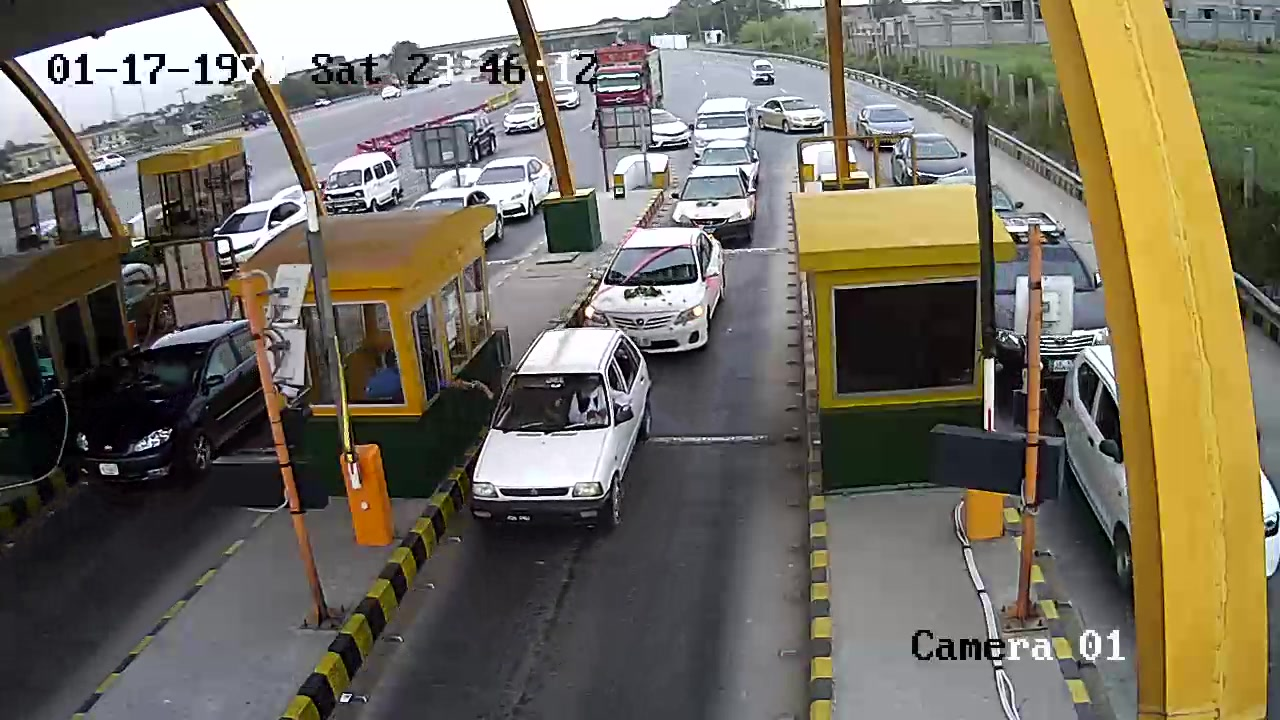F1: (467, 332, 655, 538)
